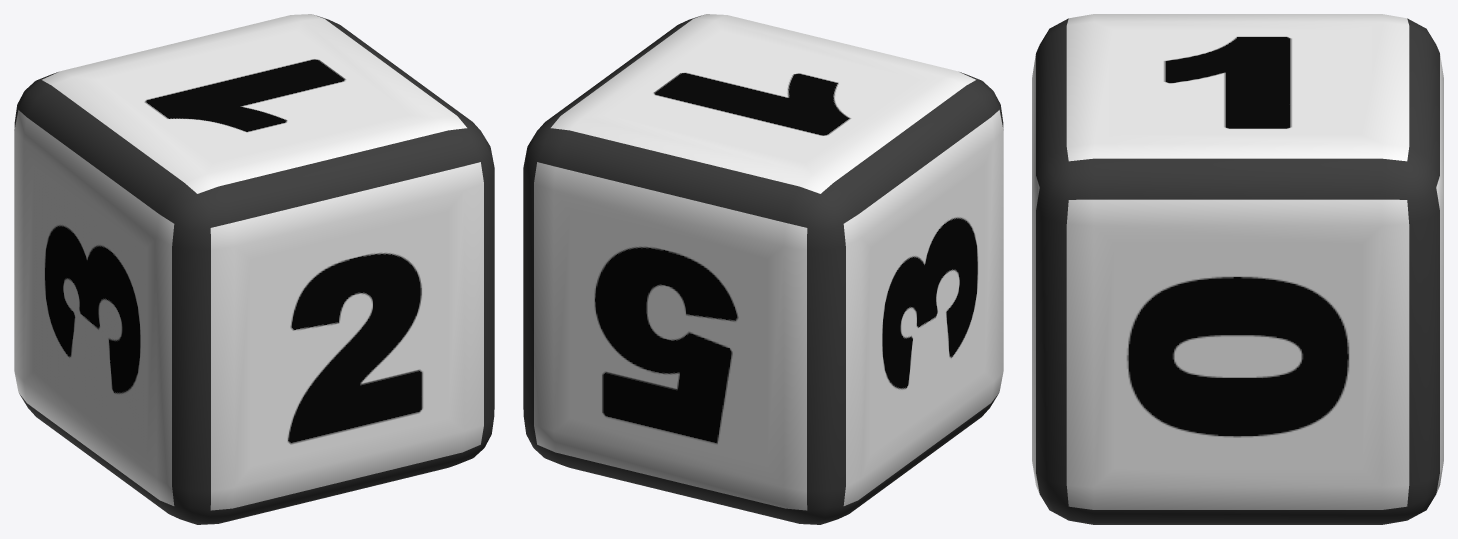
Rendered from slidingCube.obj.
3 renders of one model, left to right at view 1: azimuth 30°, elevation 25°; view 2: azimuth 150°, elevation 25°; view 3: azimuth 270°, elevation 25°, orthographic. The views are drawn at different scales.
Parts seen in each view (by area): view 1: SC; view 2: SC; view 3: SC.
Part boxes in pixels (<box>): SC: <box>14,14,494,524</box>; SC: <box>523,14,1003,524</box>; SC: <box>1032,14,1443,524</box>.
Bounding box in the file's own units: 10 × 10 × 10.
Materials: 2 (1 with a texture image).
